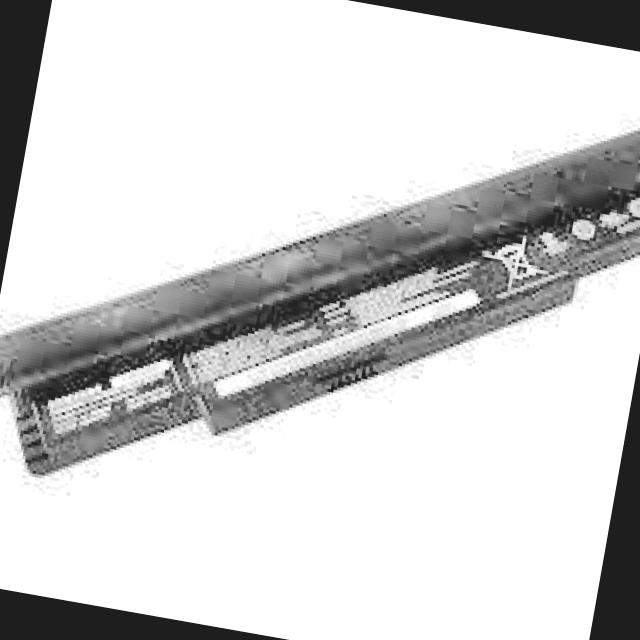Battery: (0, 30, 640, 573)
